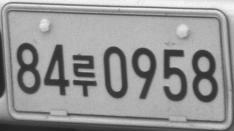0: (103, 45, 128, 99)
4: (43, 43, 69, 96)
5: (162, 48, 187, 101)
8: (190, 48, 218, 103), (15, 41, 41, 95)
9: (130, 46, 157, 100)
루: (72, 53, 97, 97)
